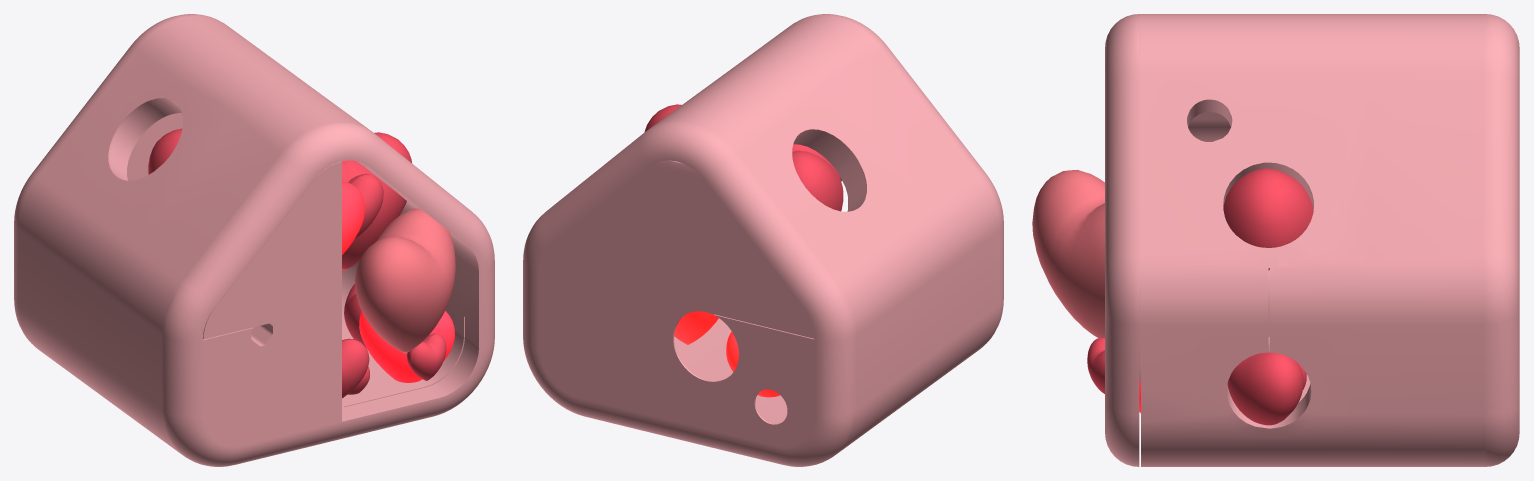
The model's file is HomieHead2.glb.
The picture shows the model from 3 angles, left to right: view 1: azimuth 30°, elevation 25°; view 2: azimuth 150°, elevation 25°; view 3: azimuth 270°, elevation 25°; orthographic projection. The views are drawn at different scales.
Visible parts, largest first — view 1: Brep.405, Brep.417, Heart, Heart.001; view 2: Brep.405, Heart; view 3: Brep.405, Heart, Heart.001.
Boxes of the visible parts, x1=… form: Brep.405: x1=14, y1=14, x2=494, y2=466; Brep.417: x1=203, y1=161, x2=341, y2=446; Heart: x1=148, y1=128, x2=455, y2=382; Heart.001: x1=342, y1=173, x2=446, y2=398; Brep.405: x1=523, y1=14, x2=1003, y2=466; Heart: x1=644, y1=104, x2=843, y2=397; Brep.405: x1=1105, y1=14, x2=1519, y2=466; Heart: x1=1032, y1=168, x2=1313, y2=425; Heart.001: x1=1087, y1=337, x2=1104, y2=393.
Bounding box in the file's own units: 0.536 × 0.4718 × 0.5507.
